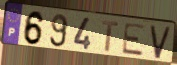4: (72, 16, 94, 52)
6: (22, 10, 46, 46)
9: (48, 12, 70, 49)
E: (120, 22, 147, 58)
T: (101, 20, 120, 54)
V: (149, 24, 173, 60)
